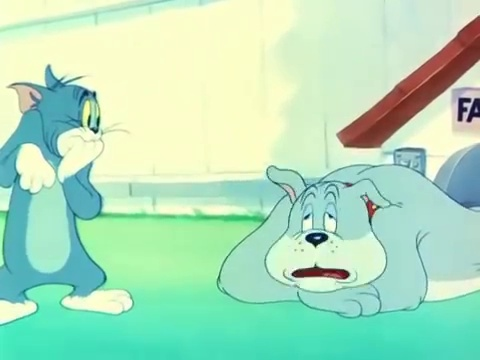spike: (262, 159, 398, 299)
tom: (7, 61, 114, 171)
